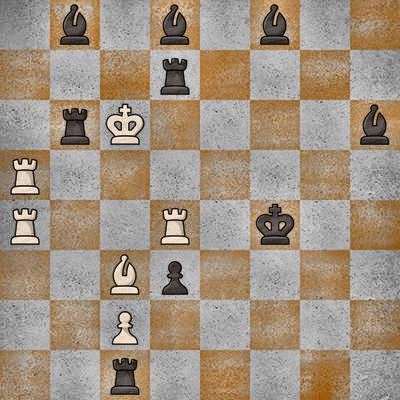black-bishop: (50, 0, 100, 50), (150, 0, 200, 50), (250, 0, 300, 50), (350, 100, 400, 150)
black-king: (250, 200, 300, 250)
black-pawn: (150, 250, 200, 300)
black-rook: (150, 50, 200, 100), (50, 100, 100, 150), (100, 350, 150, 400)
white-bishop: (100, 250, 150, 300)
white-king: (100, 100, 150, 150)
white-pawn: (100, 300, 150, 350)
white-rook: (0, 150, 50, 200), (0, 200, 50, 250), (150, 200, 200, 250)
